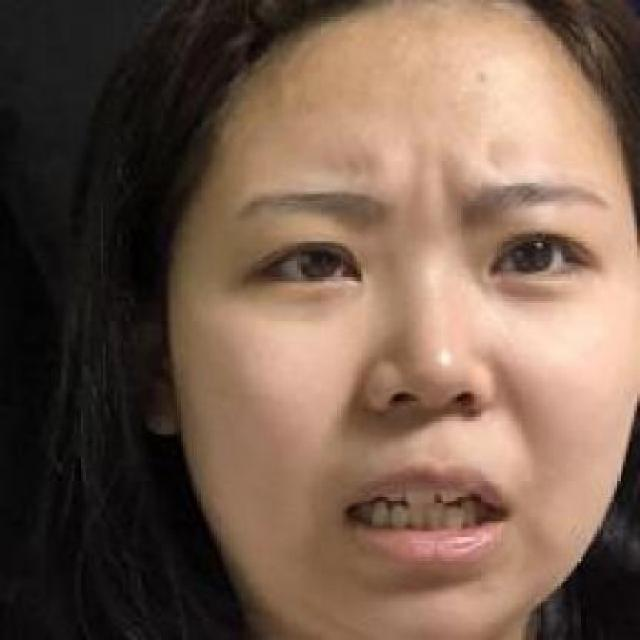angry: (149, 67, 624, 640)
